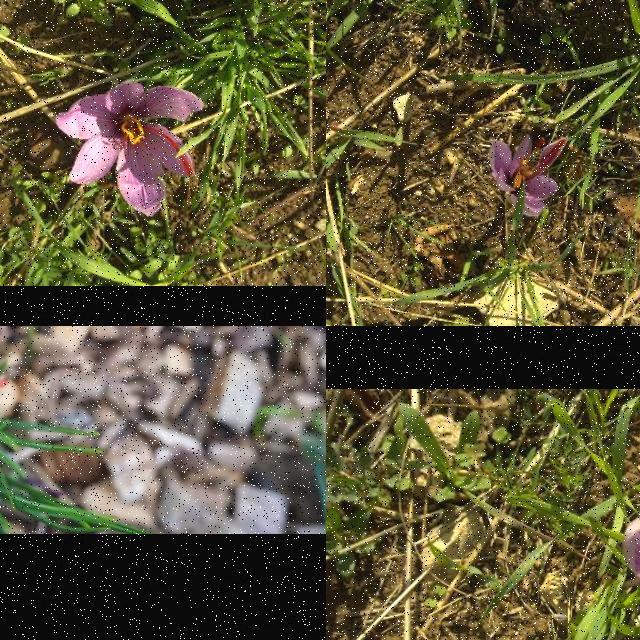flower: (55, 84, 205, 218), (489, 134, 569, 218)
